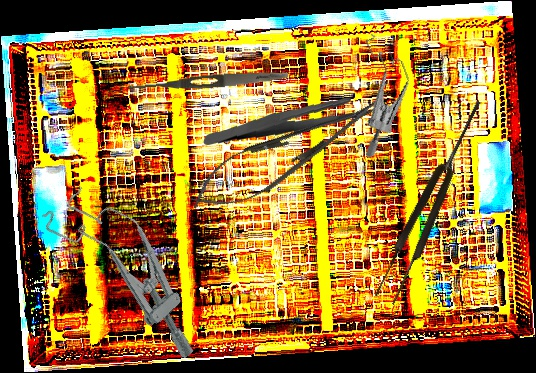Dressing Forceps: (202, 90, 368, 154), (126, 68, 289, 96)
Needle Holder: (181, 81, 395, 226)
Speculum: (37, 171, 227, 370), (326, 26, 433, 159)
Tissue Forceps: (371, 95, 493, 307)
